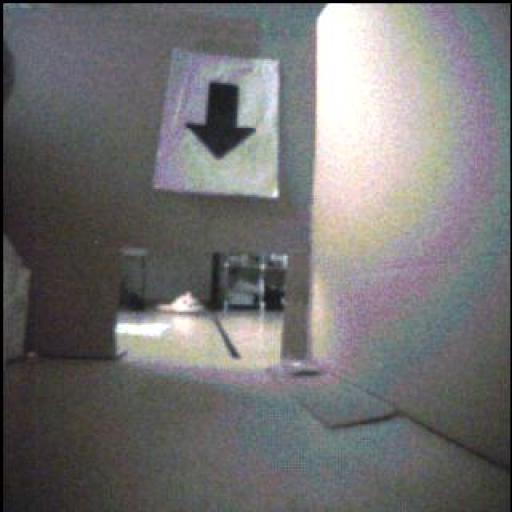arrow: (188, 83, 257, 160)
